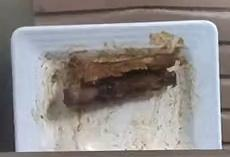ribs: (39, 31, 192, 150)
